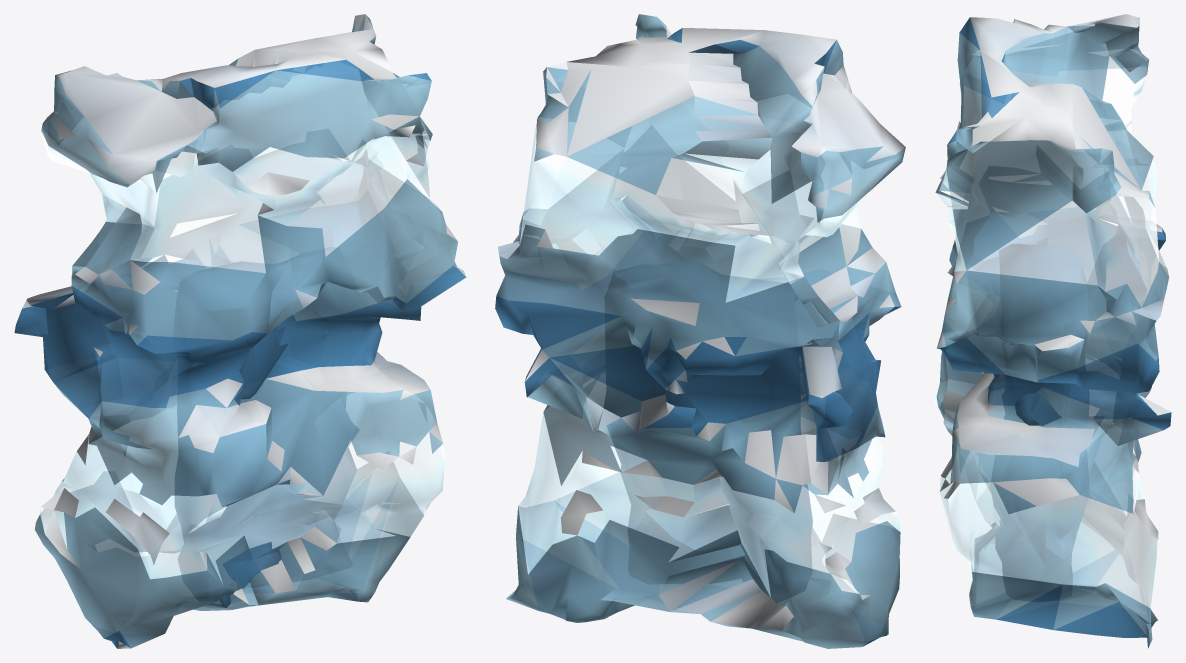
Rendered from frost_ice_cliff_b_lod1.glb.
3 views of the same model, side by side, from view 1: azimuth 30°, elevation 25°; view 2: azimuth 150°, elevation 25°; view 3: azimuth 270°, elevation 25° (orthographic). The views are drawn at different scales.
Parts seen in each view (by area): view 1: frost_ice_cliff_b.001; view 2: frost_ice_cliff_b.001; view 3: frost_ice_cliff_b.001.
Boxes of the visible parts, x1,y1,x2,y2 form: frost_ice_cliff_b.001: (14, 14, 466, 648); frost_ice_cliff_b.001: (495, 14, 905, 648); frost_ice_cliff_b.001: (934, 14, 1171, 648).
Size of the model in its own units: 11.31 by 17.17 by 6.88.
